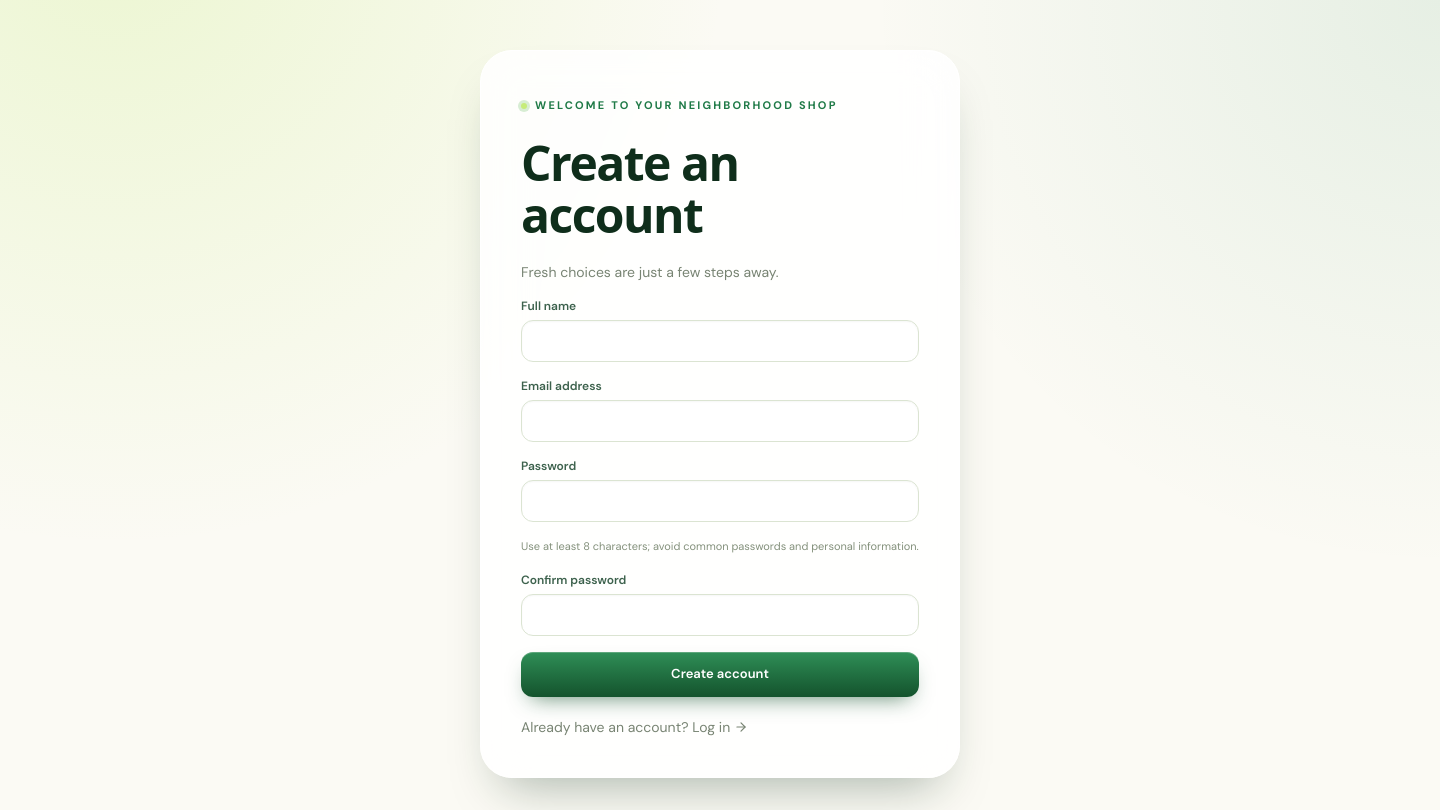
Scenario: Sprint 1: screens › registration shows a message under each field that is wrong
Type "Sa" into the field labelled "Full name" at [720, 341], box x1=521 y1=320 x2=919 y2=362
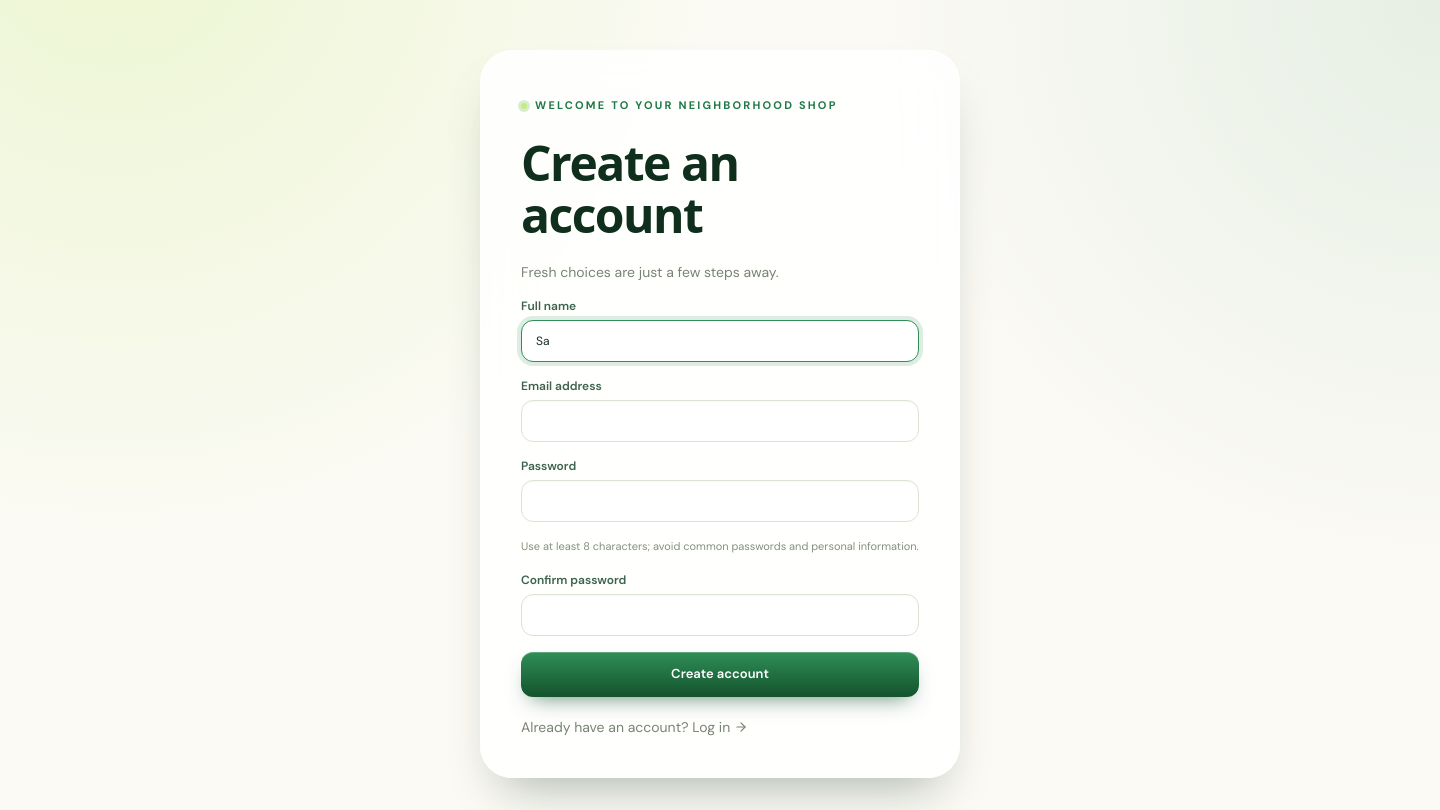
Type "sam@example.com" into the field labelled "Email address" at [720, 421], box x1=521 y1=400 x2=919 y2=442
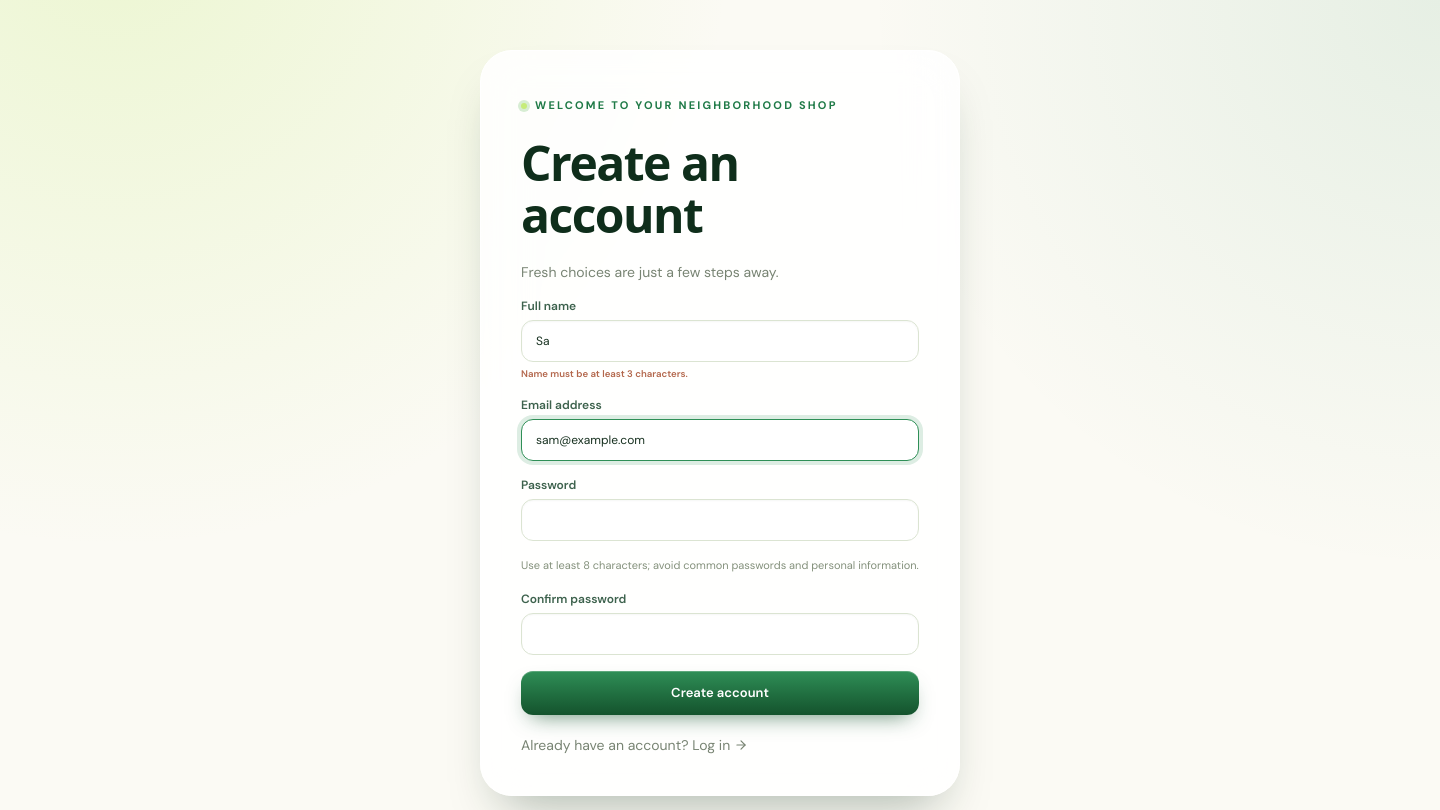
Type "password123" into the password field labelled "Password" at [720, 520], box x1=521 y1=499 x2=919 y2=541
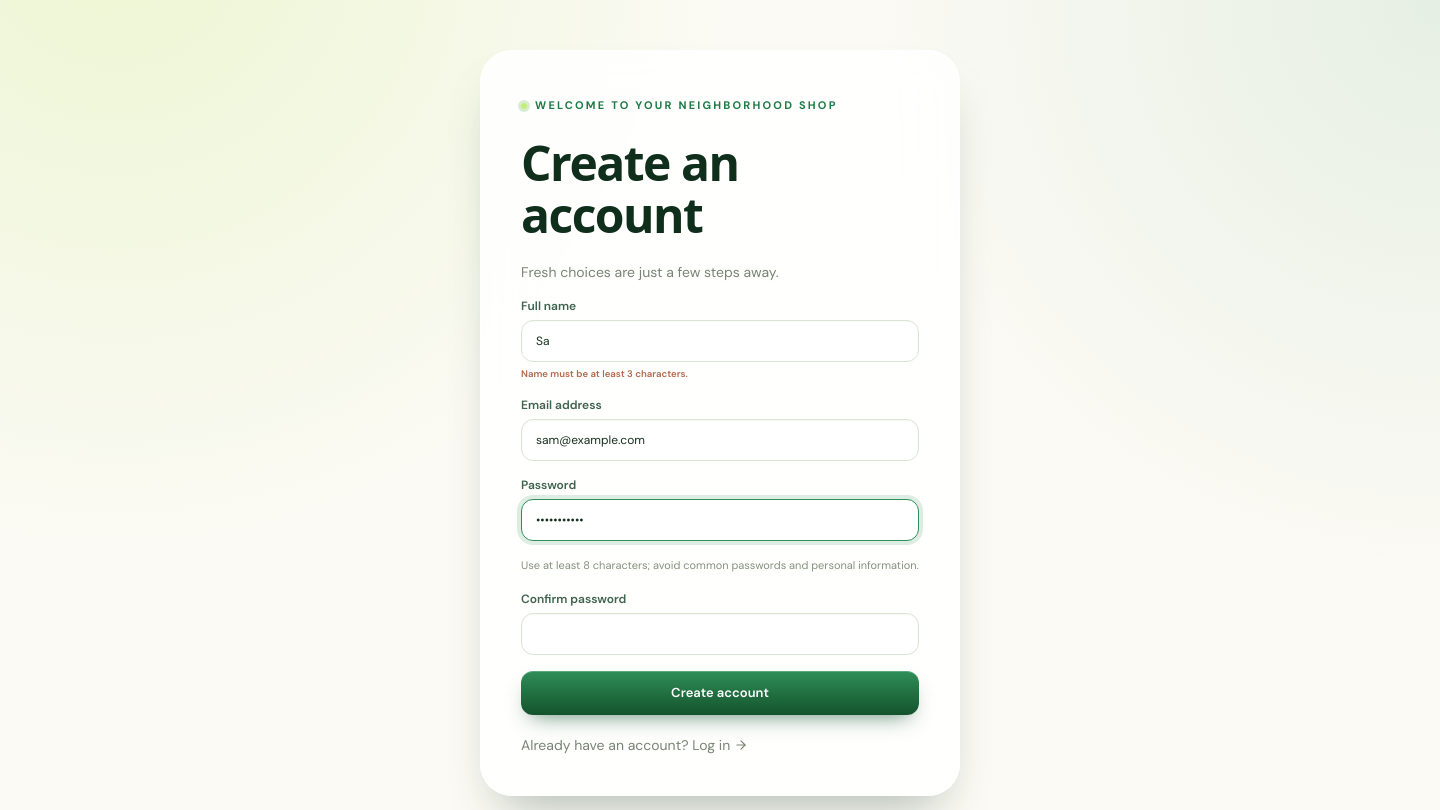
Type "different123" into the password field labelled "Confirm password" at [720, 634], box x1=521 y1=613 x2=919 y2=655
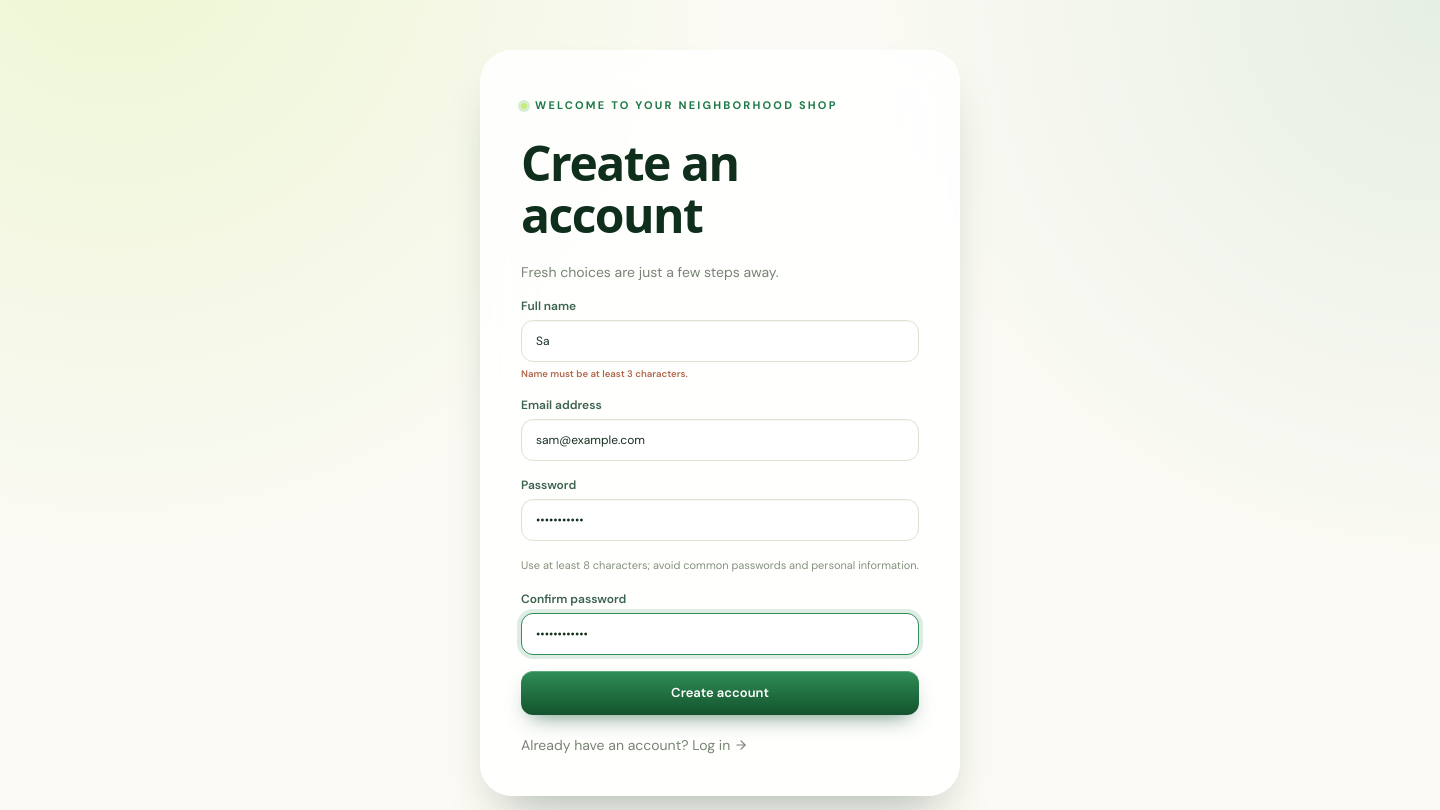
Click the button "Create account" at [720, 693], box x1=521 y1=671 x2=919 y2=715
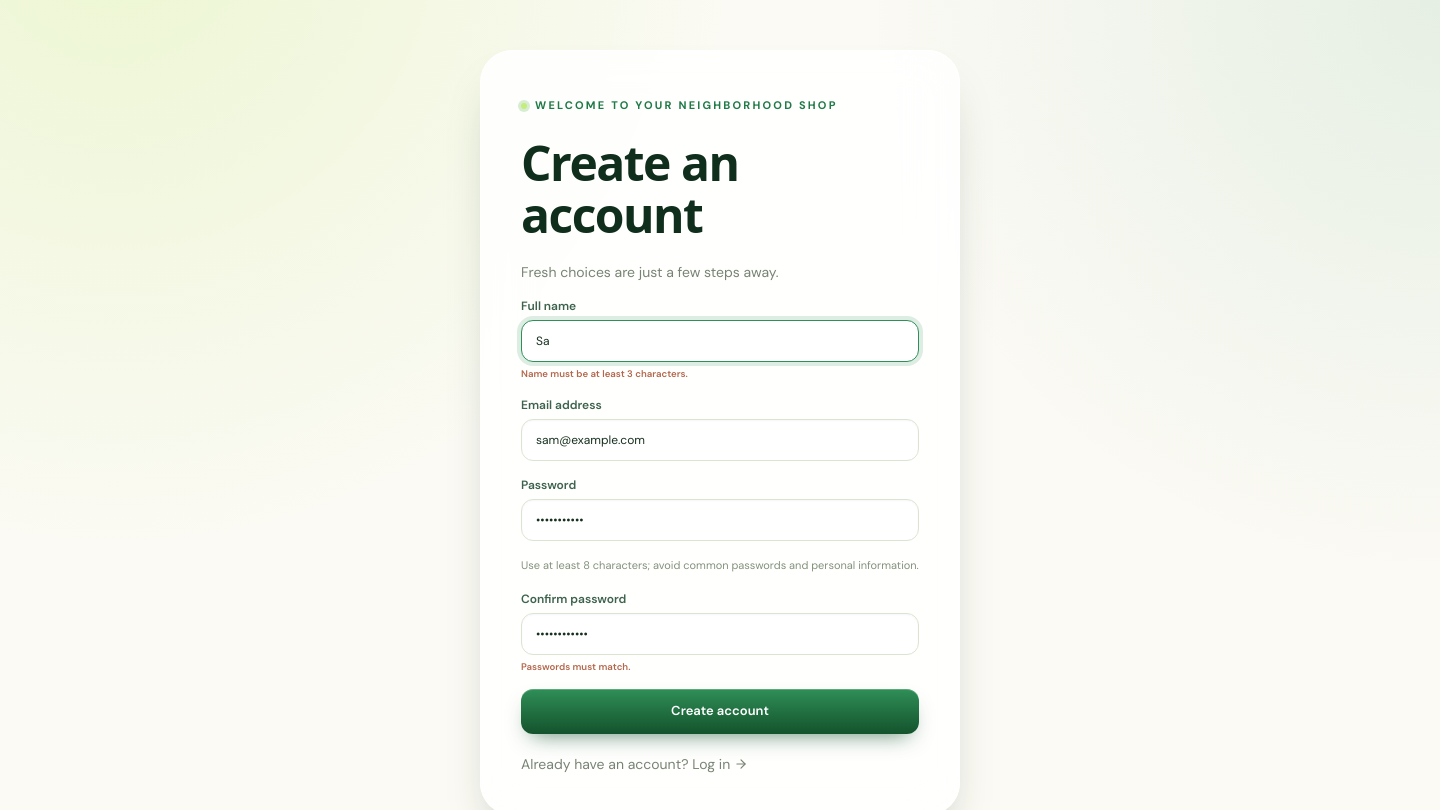
Check: the text "Name must be at least 3 characters." is shown, box x1=521 y1=367 x2=688 y2=380
Check: the text "Passwords must match." is shown, box x1=521 y1=660 x2=630 y2=673
